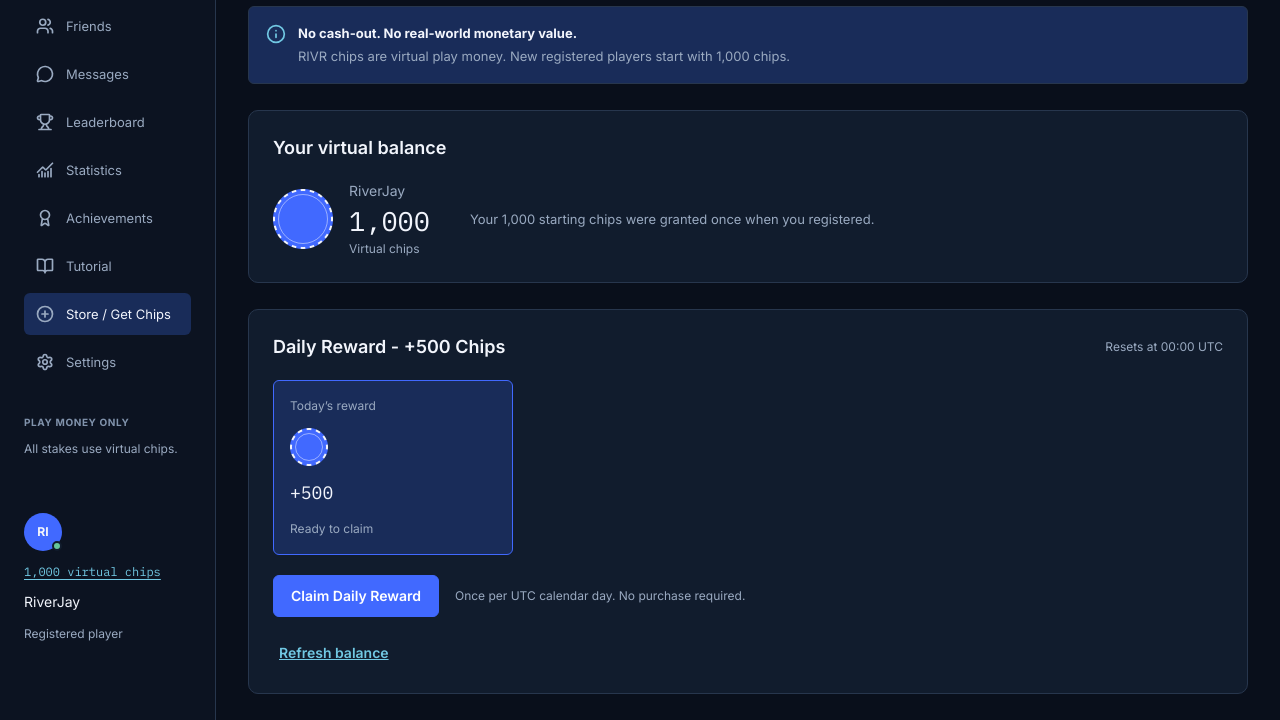
daily error 403 does not invent a successful payout
The image size is (1280, 720).
(page scrolled)
Click the button "Claim Daily Reward" at (356, 596), box [273, 575, 439, 617]
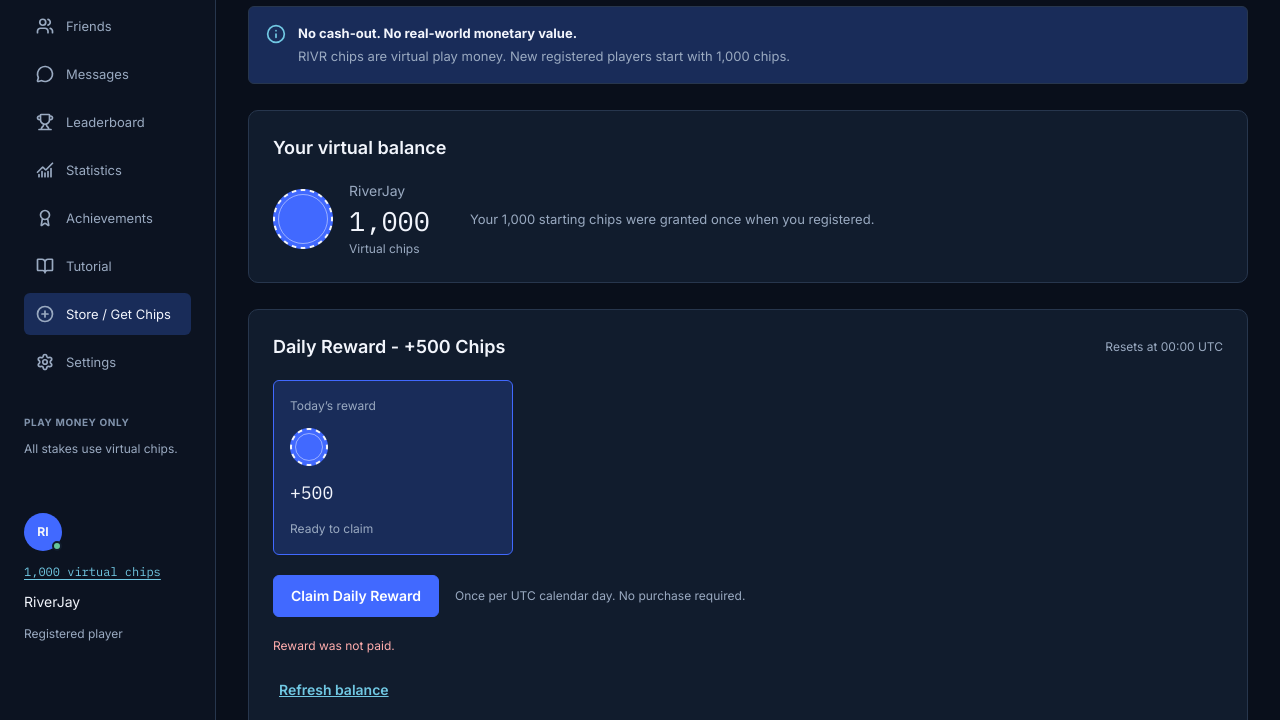
Expected: the text "1,000" is shown, [349, 201, 430, 240]
Result: the message reads "Reward was not paid." at [273, 638, 395, 653]
